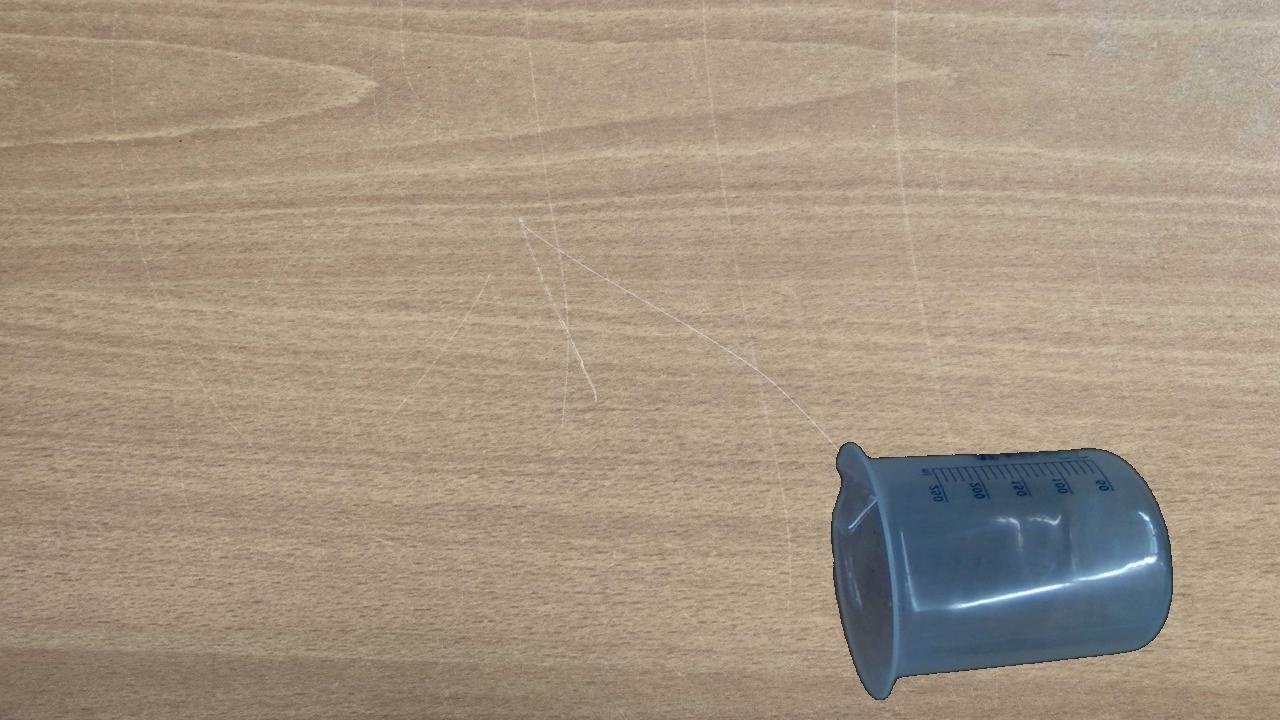becker: (829, 440, 1174, 700)
